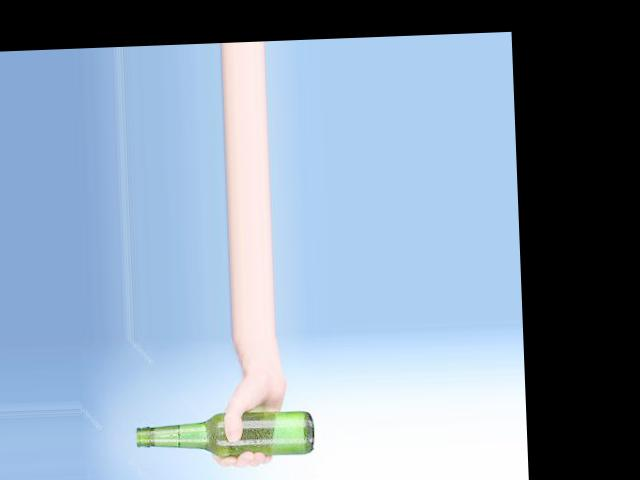beer: (135, 410, 315, 459)
